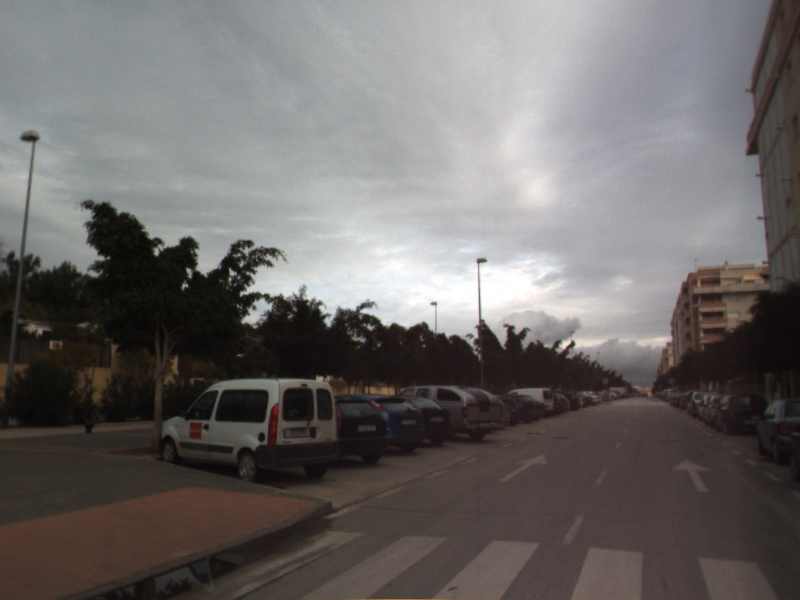STRAIGHT: (496, 452, 550, 484), (670, 458, 713, 494)
